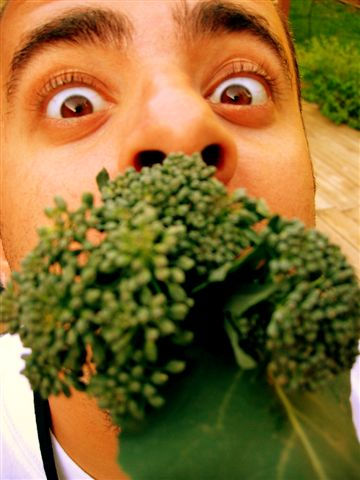broccoli: (0, 158, 358, 423)
